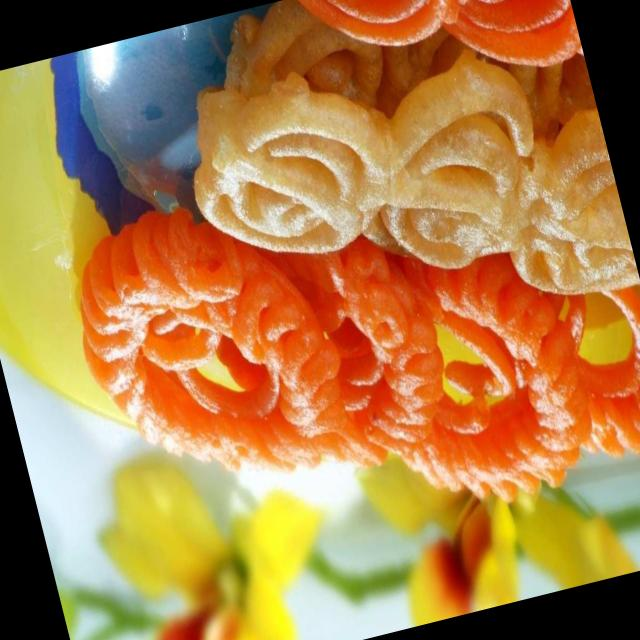jalebi: (36, 0, 640, 522)
